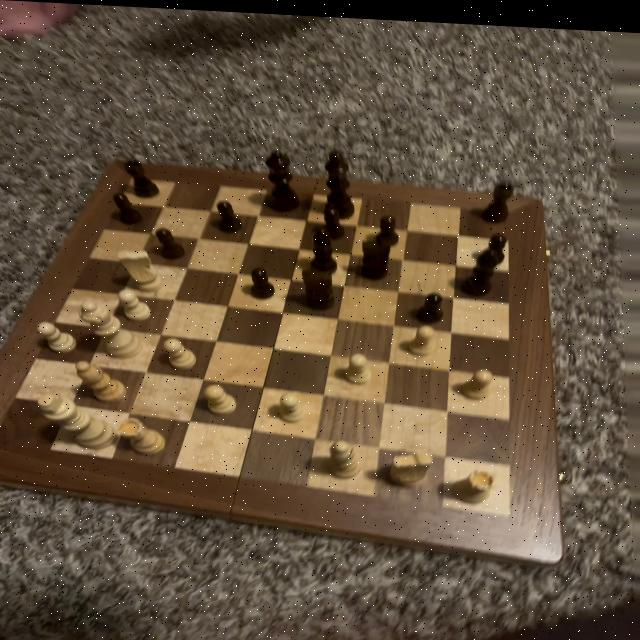bishop: (458, 240, 501, 297), (302, 221, 343, 273)
black-bishop: (317, 143, 359, 219)
black-king: (297, 264, 338, 310), (354, 228, 390, 278)
black-knight: (411, 285, 445, 323), (314, 201, 348, 239), (111, 190, 145, 227), (154, 223, 188, 259), (372, 206, 403, 244), (479, 226, 509, 264), (247, 261, 277, 299), (215, 197, 244, 231)
black-pawn: (262, 146, 302, 213)
black-queen: (121, 155, 162, 201), (482, 171, 517, 223)
black-rook: (73, 358, 128, 404), (319, 434, 365, 479)
white-bishop: (30, 388, 120, 456)
white-king: (114, 247, 165, 295), (385, 443, 435, 487)
white-knight: (269, 385, 311, 426), (111, 286, 154, 325), (457, 360, 496, 400), (35, 319, 79, 354), (158, 333, 199, 370), (203, 380, 240, 418), (340, 347, 376, 385), (402, 318, 438, 355)
white-pawn: (72, 296, 146, 361)
white-queen: (113, 413, 171, 460), (450, 462, 497, 500)
